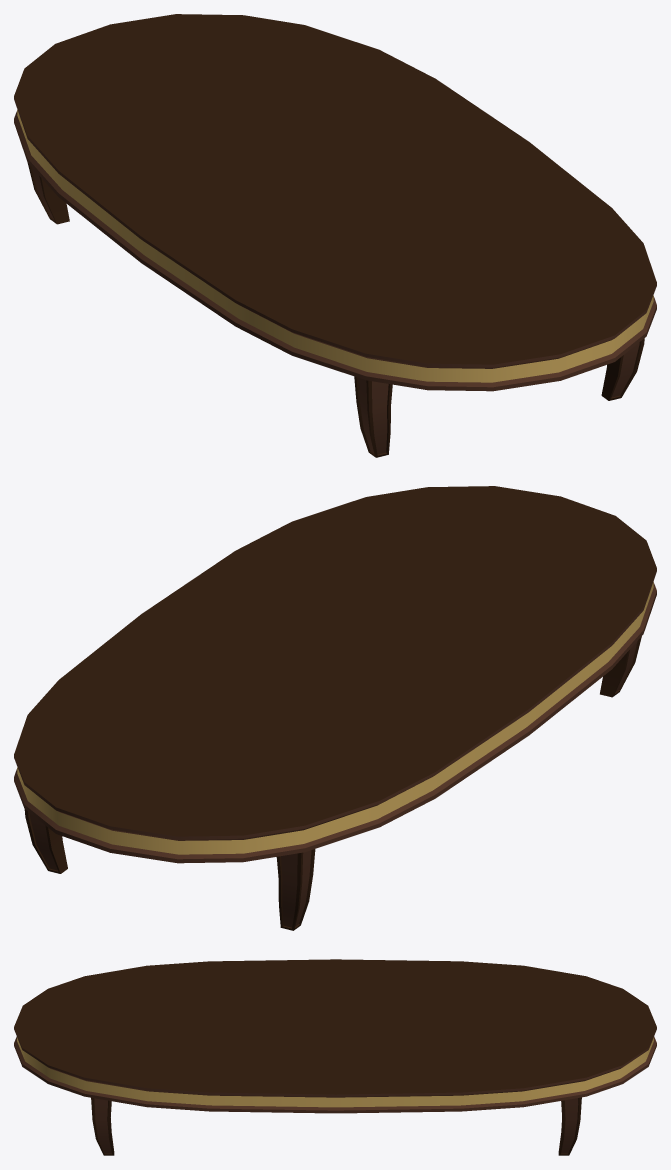
File: DiningTable.fbx
3 renders of one model, top to bottom at view 1: azimuth 30°, elevation 25°; view 2: azimuth 150°, elevation 25°; view 3: azimuth 270°, elevation 25°, orthographic. The views are drawn at different scales.
Parts seen in each view (by area): view 1: Table:DinnerTable; view 2: Table:DinnerTable; view 3: Table:DinnerTable.
Part boxes in pixels (<box>): Table:DinnerTable: <box>14,14,656,457</box>; Table:DinnerTable: <box>14,486,656,930</box>; Table:DinnerTable: <box>14,959,656,1155</box>.
Size of the model in its own units: 483 by 143 by 972.
